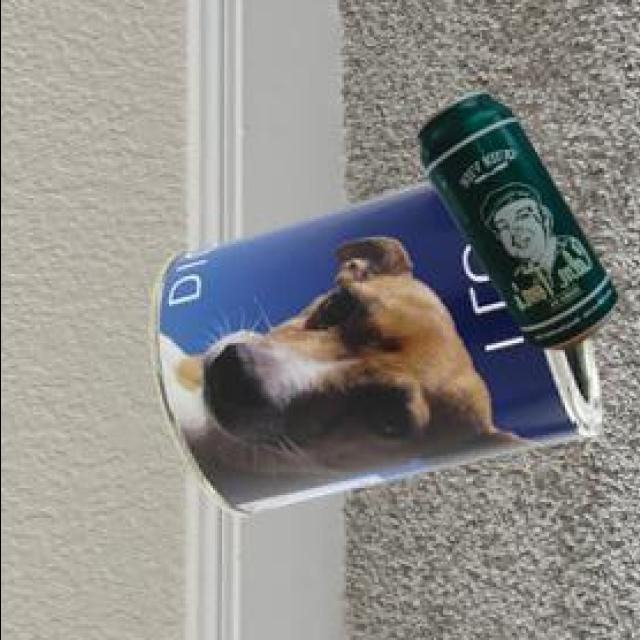logam: (146, 178, 597, 512), (411, 86, 614, 346)
